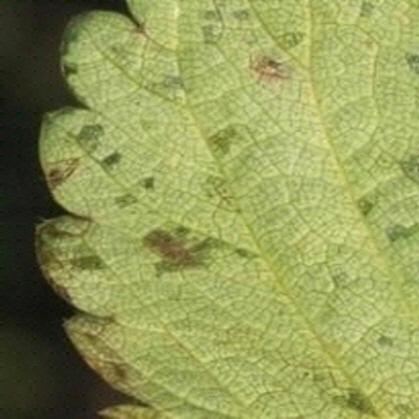Angular Leafspot: (32, 0, 418, 418)
